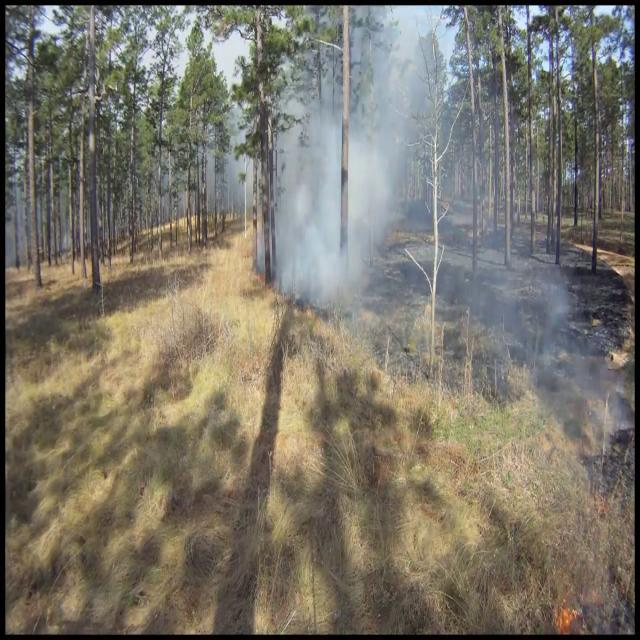Smoke: (274, 37, 417, 328)
